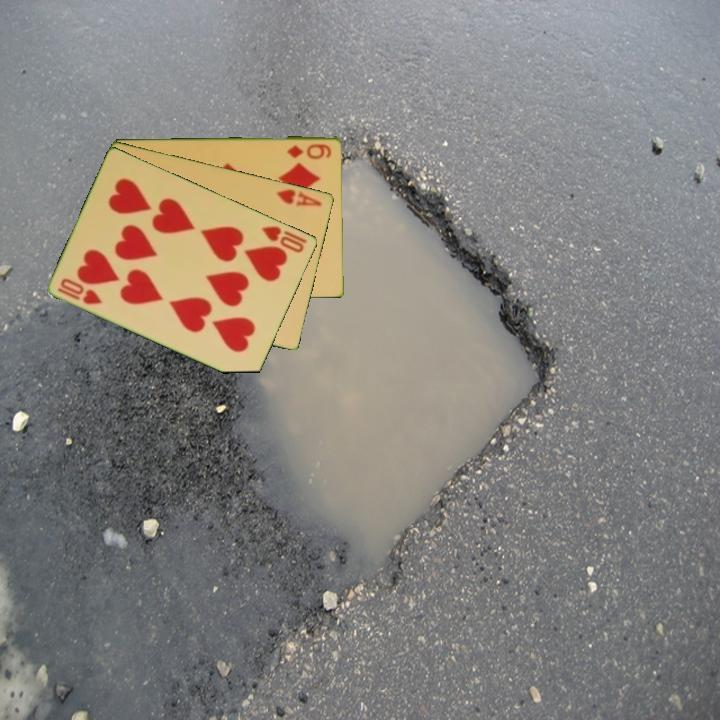10h: (259, 222, 310, 256), (54, 274, 105, 307)
6d: (284, 140, 334, 162)
Ah: (273, 185, 325, 209)
